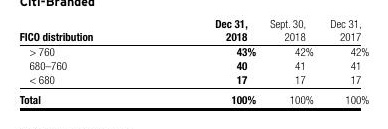table: (0, 0, 388, 129)
